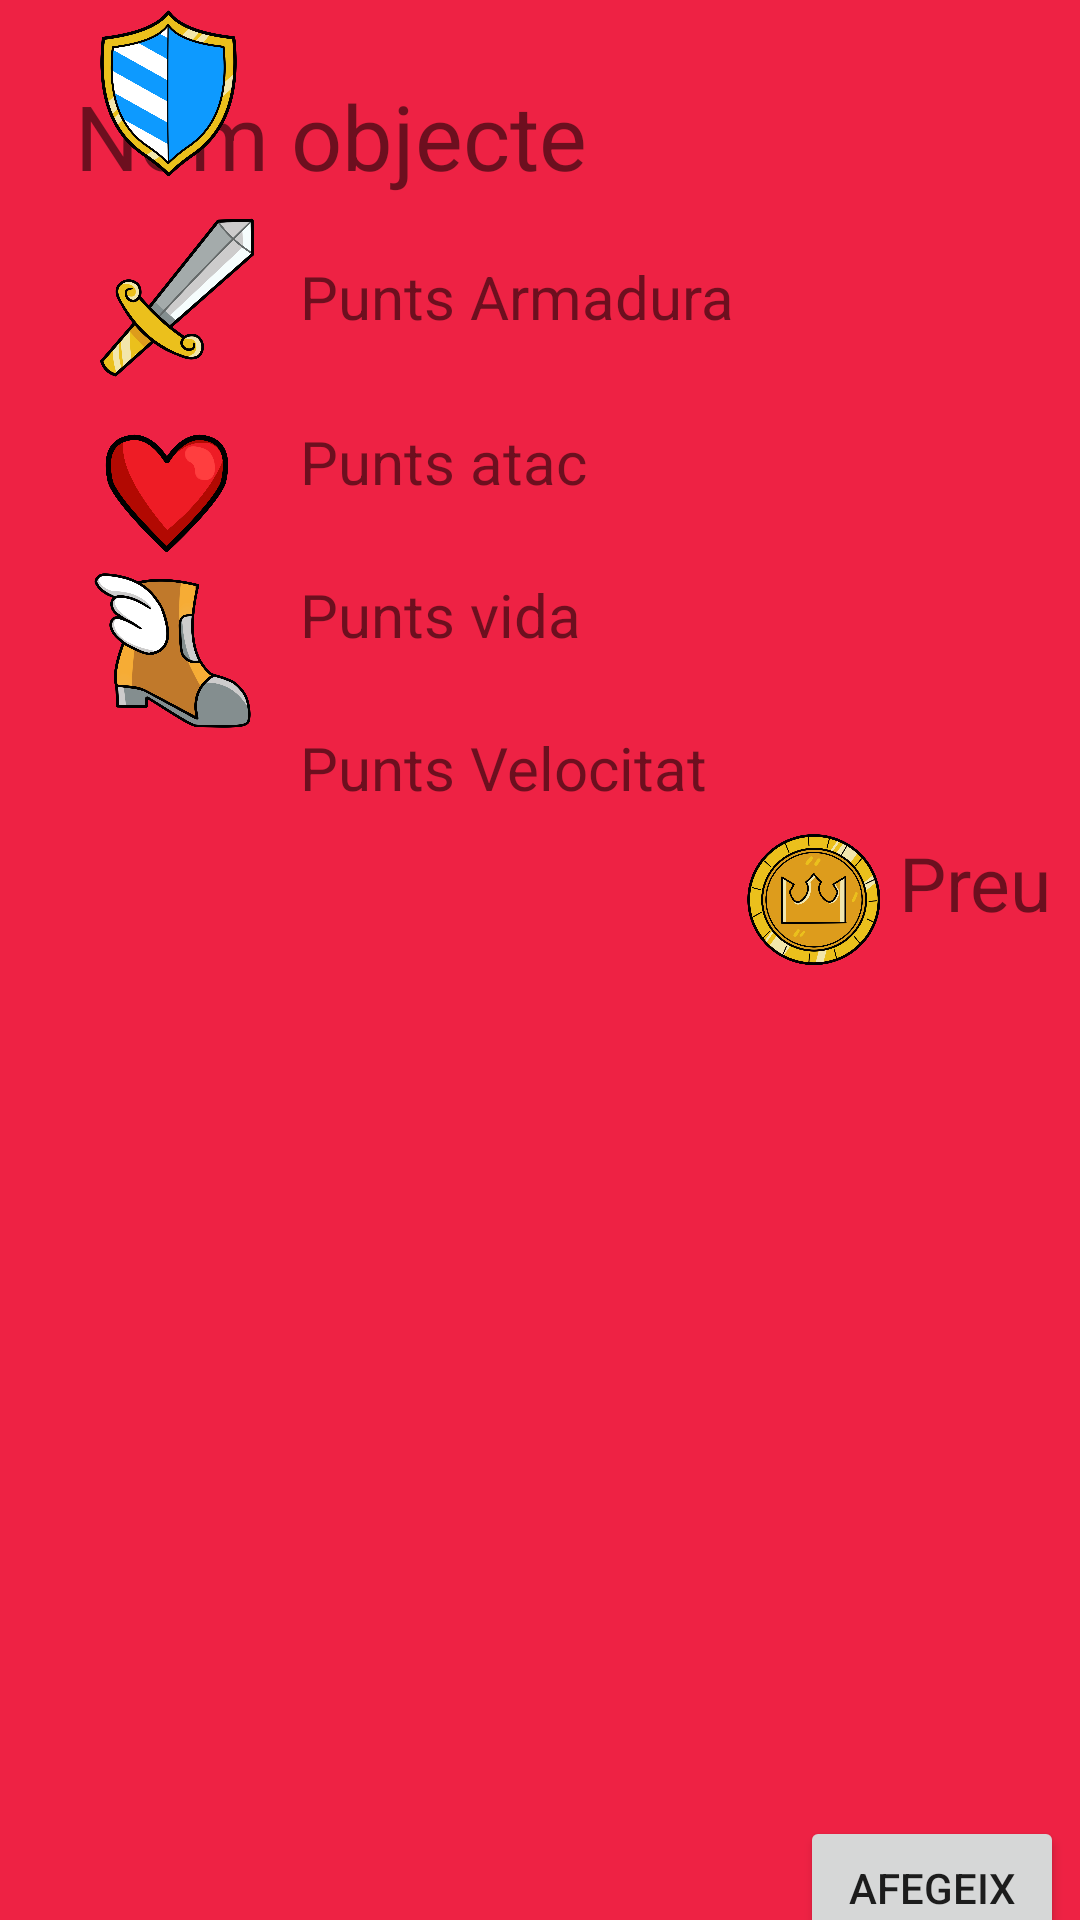

Locate icon controls on the screen. Image size 1080px×1920px, boxes as [x1=x1, y1=y1, x2=x2, y2=y2].
coinicon: [x1=747, y1=834, x2=880, y2=965]
hearticon: [x1=105, y1=434, x2=228, y2=552]
shieldicon: [x1=82, y1=10, x2=261, y2=176]
